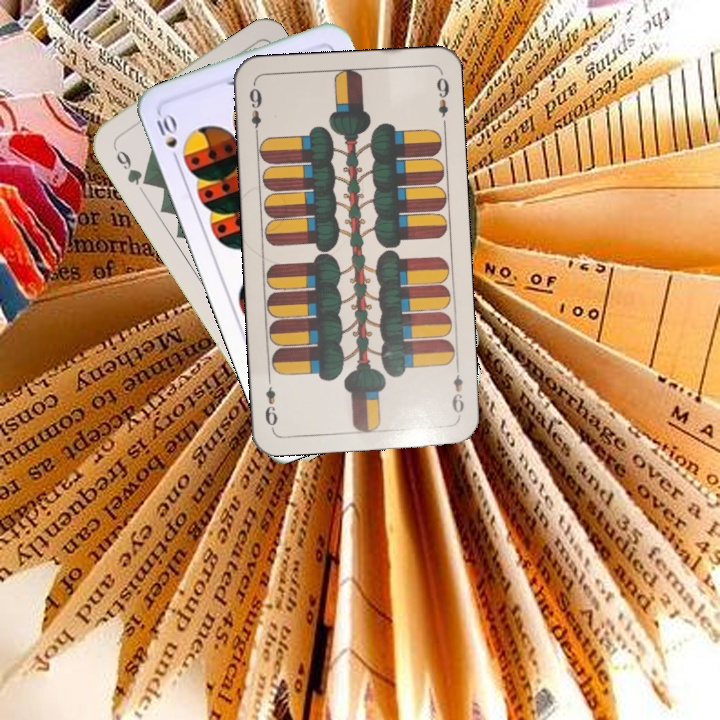E9: (245, 81, 264, 140), (447, 371, 467, 420)
G9: (108, 140, 153, 188)
S10: (152, 109, 182, 167)
